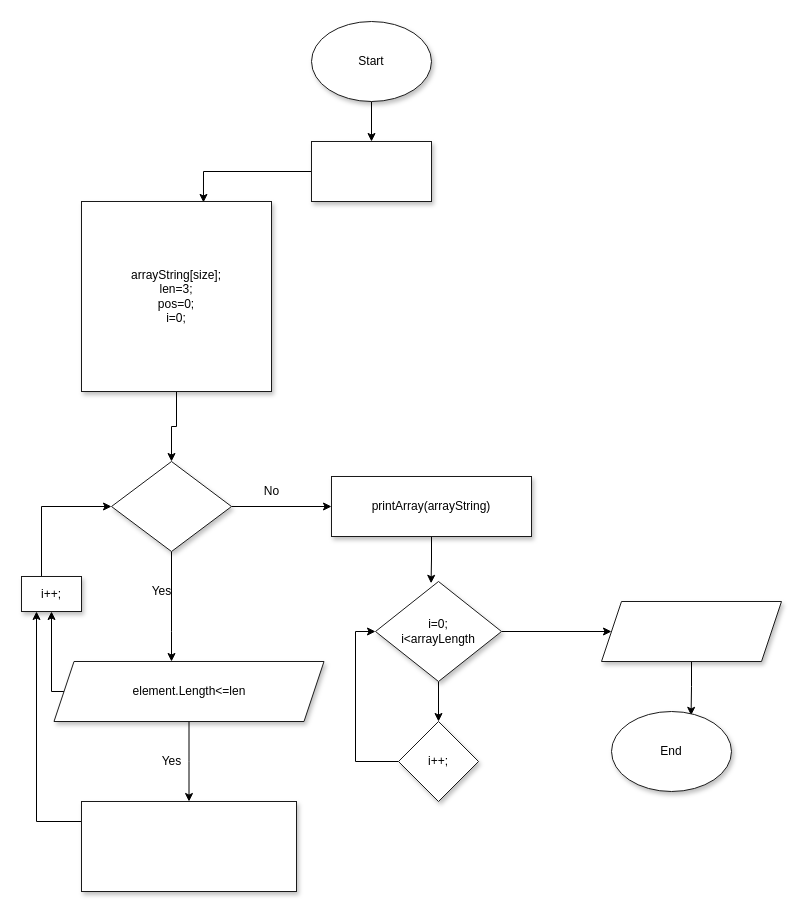
The diagram is 805 pixels wide and 916 high, and some of its shapes have lost their labels. The shapes that lost their labels are listed below. From the top down, each one's centre as x and y in pixels, then its label:
pixel 372 172: size
pixel 172 507: i<size?
pixel 692 632: PrintArray(arrayStrings)
pixel 189 847: arrayString[pos] = element pos++;
